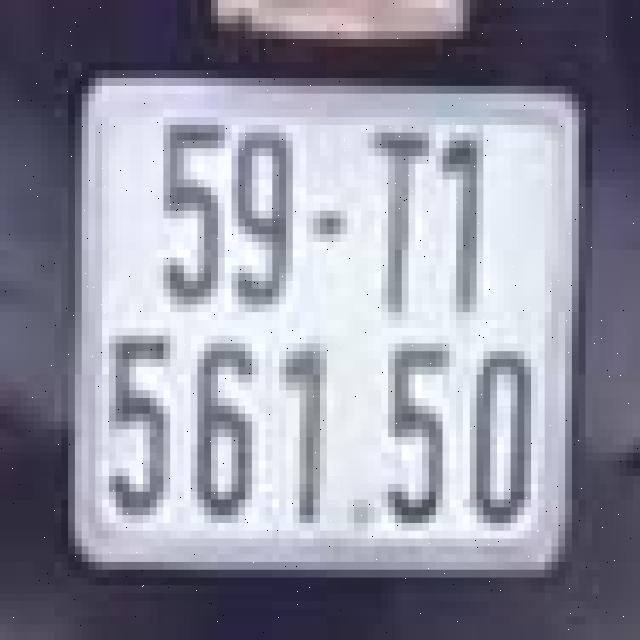0: (463, 340, 538, 534)
1: (272, 316, 334, 535), (436, 117, 497, 320)
5: (150, 101, 231, 320), (99, 324, 180, 527), (378, 332, 453, 534)
6: (180, 324, 269, 519)
9: (228, 117, 296, 320)
T: (354, 121, 436, 316)
